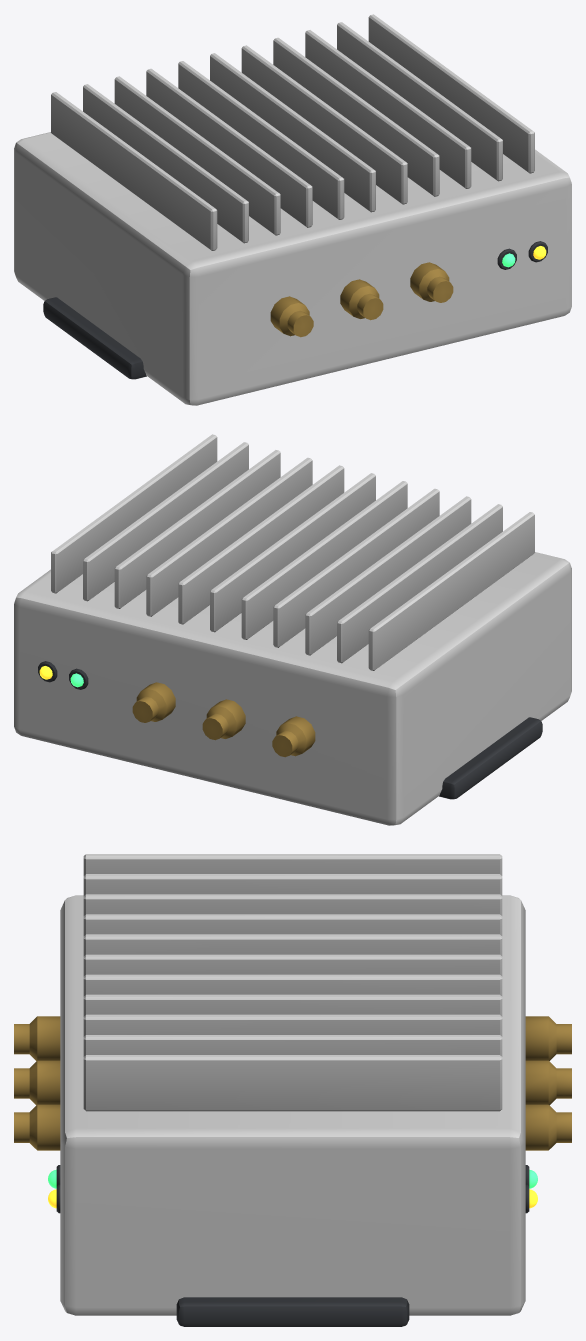
The model's file is transpondedor.glb.
3 views of the same model, one above another, from view 1: azimuth 30°, elevation 25°; view 2: azimuth 150°, elevation 25°; view 3: azimuth 270°, elevation 25° (orthographic). The views are drawn at different scales.
Parts seen in each view (by area): view 1: cuerpo; view 2: cuerpo; view 3: cuerpo.
Boxes of the visible parts, box(x1,y1,x2,y2) form: cuerpo: box(14, 14, 571, 405); cuerpo: box(14, 434, 571, 825); cuerpo: box(14, 854, 571, 1326).
Bounding box in the file's own units: 0.32 × 0.1386 × 0.288.
